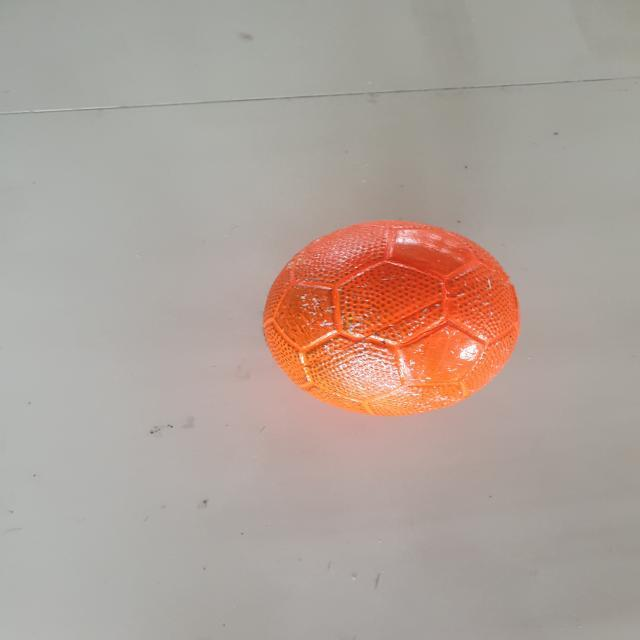bola: (259, 216, 531, 431)
